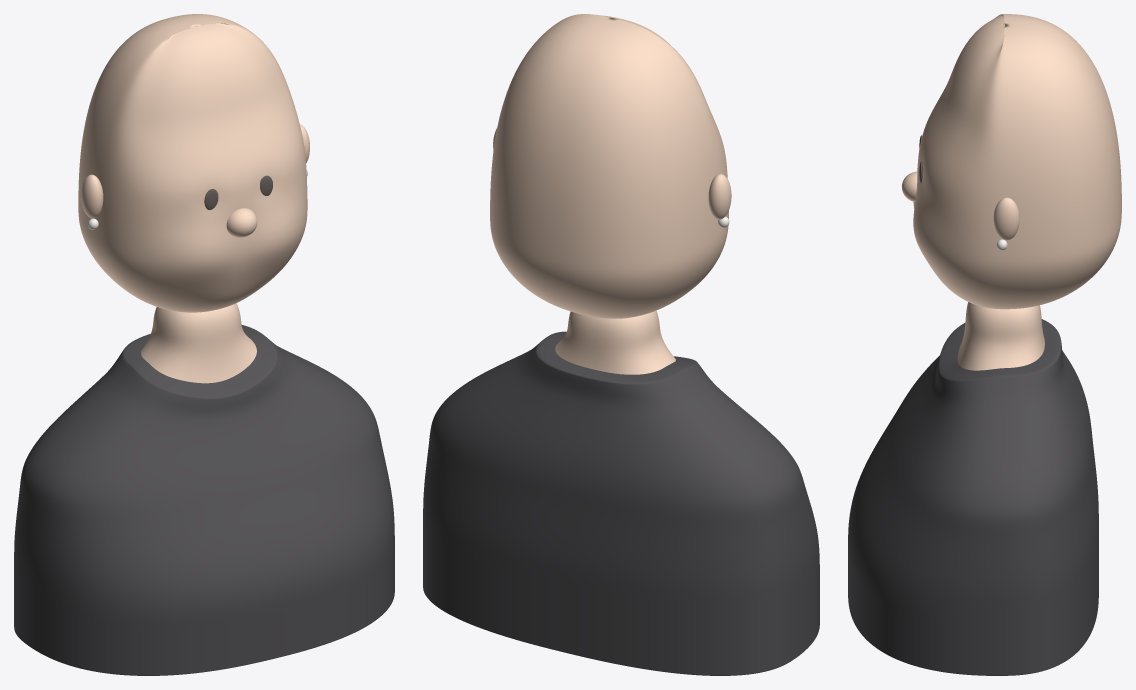
File: body.glb
3 renders of one model, left to right at view 1: azimuth 30°, elevation 25°; view 2: azimuth 150°, elevation 25°; view 3: azimuth 270°, elevation 25°, orthographic. The views are drawn at different scales.
Parts seen in each view (by area): view 1: top, head, body, ear_l, nose; view 2: top, head, body, ear_l; view 3: top, head, body, ear_r.
Boxes of the visible parts, bbox=[...] form: top: bbox=[14, 325, 394, 675]; head: bbox=[78, 14, 307, 312]; body: bbox=[141, 303, 256, 383]; ear_l: bbox=[81, 174, 103, 218]; nose: bbox=[226, 208, 257, 237]; top: bbox=[423, 331, 819, 675]; head: bbox=[490, 14, 728, 318]; body: bbox=[555, 310, 675, 374]; ear_l: bbox=[708, 174, 731, 219]; top: bbox=[848, 319, 1098, 675]; head: bbox=[913, 14, 1121, 309]; body: bbox=[957, 302, 1044, 370]; ear_r: bbox=[993, 197, 1019, 240].
Size of the model in its own units: 2.61 by 4.15 by 1.81.
